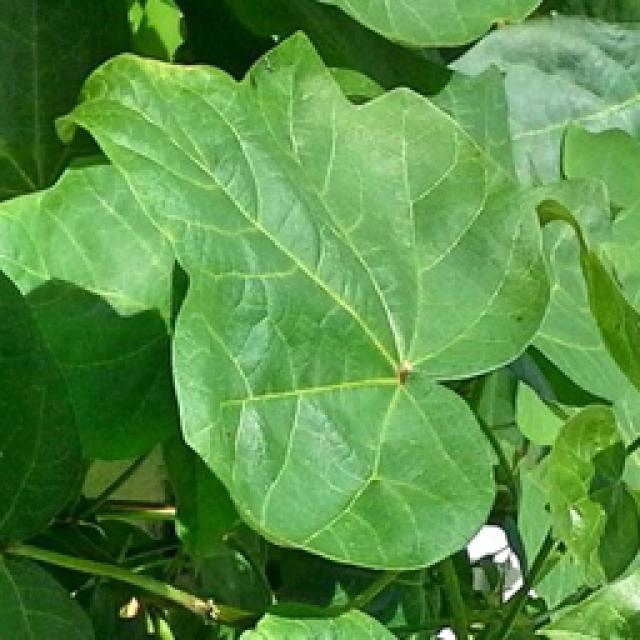Healthy Leaf: (17, 20, 535, 640)
